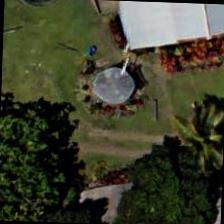Kelapa_Sawit: (156, 92, 224, 184)
